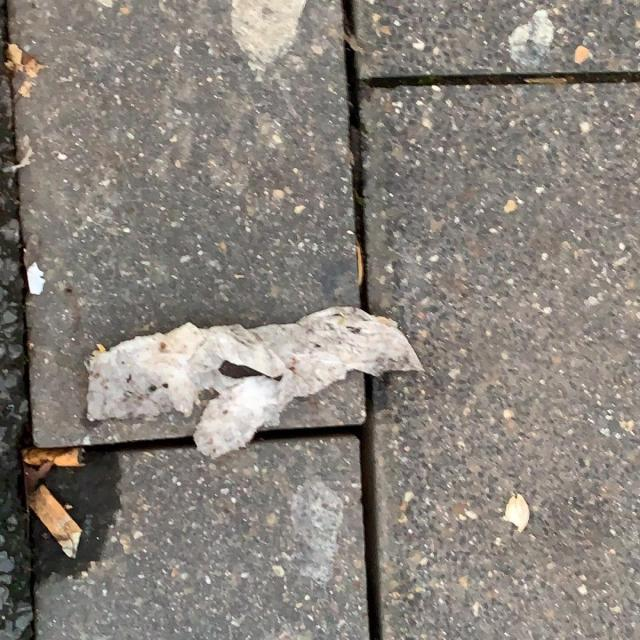Paper: (85, 304, 428, 462)
